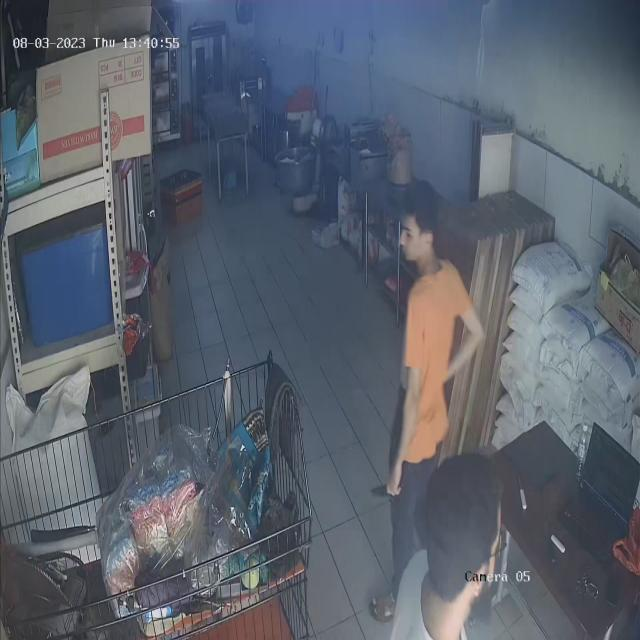Knife: (370, 476, 406, 502)
